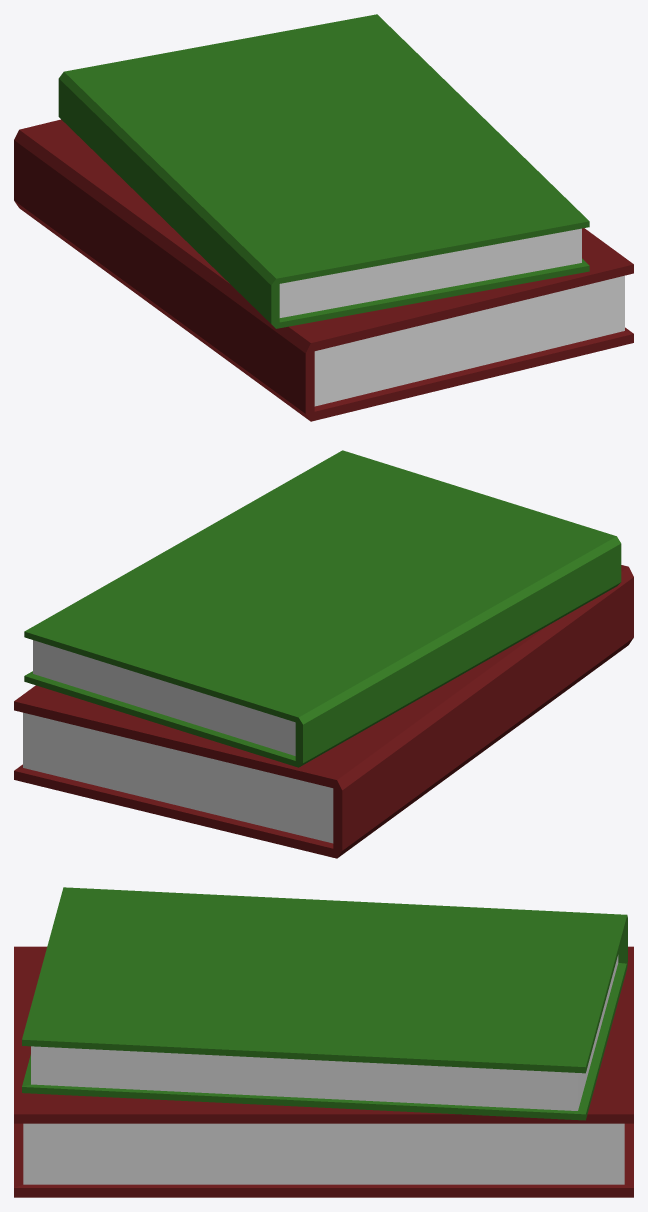
The model's file is books.fbx.
3 views of the same model, one above another, from view 1: azimuth 30°, elevation 25°; view 2: azimuth 150°, elevation 25°; view 3: azimuth 270°, elevation 25° (orthographic). The views are drawn at different scales.
Parts seen in each view (by area): view 1: Books; view 2: Books; view 3: Books.
Part boxes in pixels (x1,y1,x2,y2): Books: (14,14,633,421); Books: (14,450,633,858); Books: (14,887,633,1197).
Bounding box in the file's own units: 28.29 × 40.66 × 9.9.
